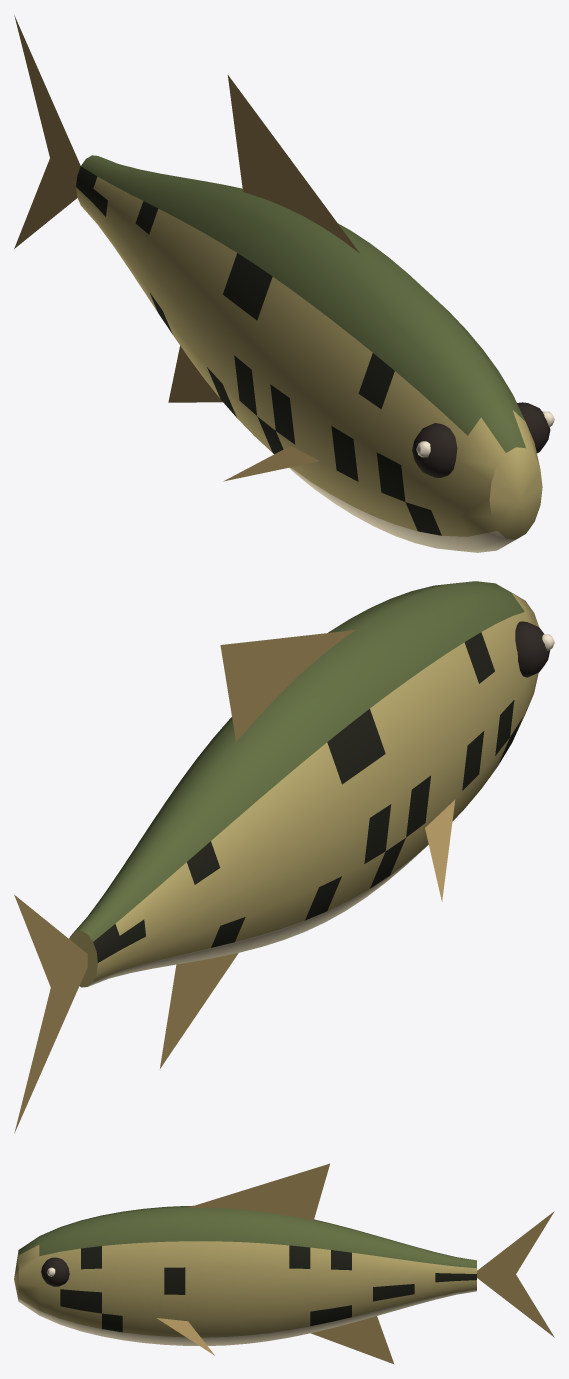
The model's file is cutthroat.fbx.
The picture shows the model from 3 angles, top to bottom: view 1: azimuth 30°, elevation 25°; view 2: azimuth 150°, elevation 25°; view 3: azimuth 270°, elevation 25°; orthographic projection. The views are drawn at different scales.
Visible parts, largest first — view 1: Fish_cutthroat_EXP; view 2: Fish_cutthroat_EXP; view 3: Fish_cutthroat_EXP.
Boxes of the visible parts, x1,y1,x2,y2 form: Fish_cutthroat_EXP: (14, 15, 554, 552); Fish_cutthroat_EXP: (14, 581, 554, 1133); Fish_cutthroat_EXP: (14, 1163, 554, 1364).
Bounding box in the file's own units: 0.1509 × 0.2419 × 0.5899.
